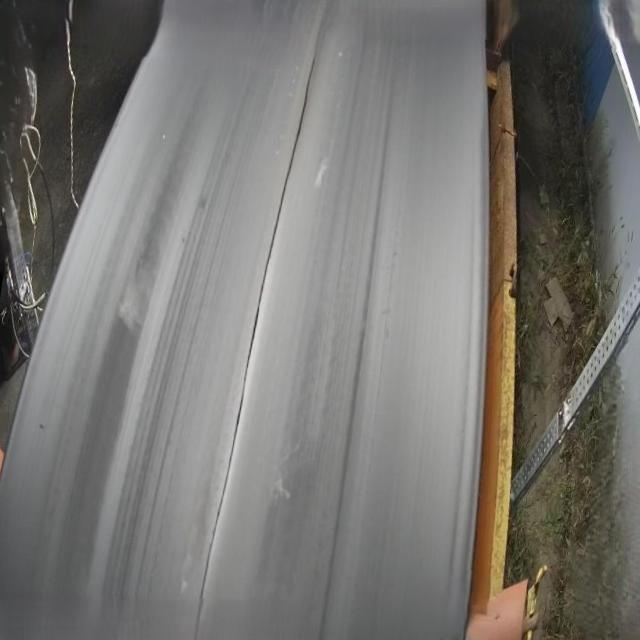Tear: (192, 0, 336, 640)
